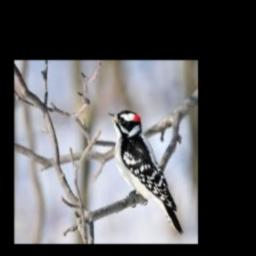Woodpecker: (106, 110, 184, 235)
